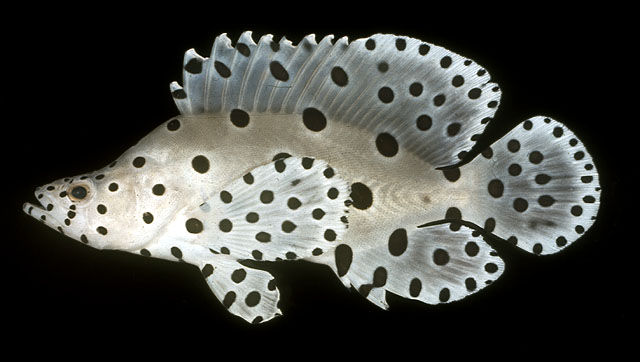fish: (24, 30, 603, 323)
